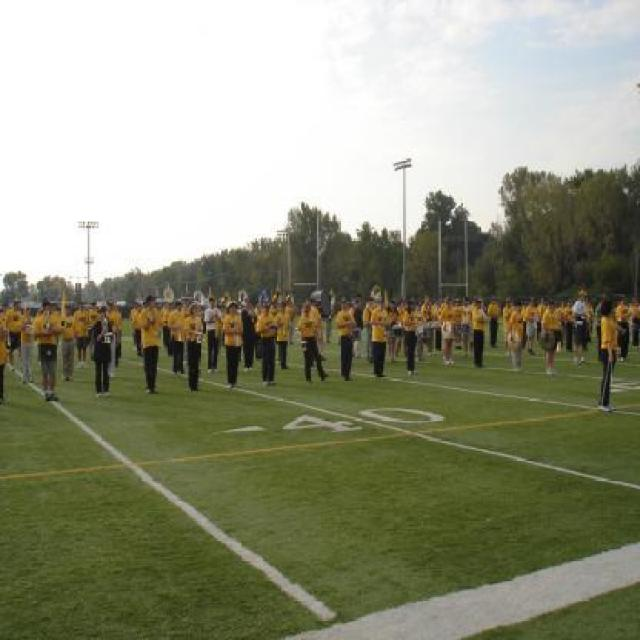Person: (384, 295, 488, 377), (500, 289, 594, 373), (597, 295, 626, 411), (595, 293, 639, 362), (33, 300, 61, 398), (296, 304, 330, 382), (138, 294, 164, 395), (91, 304, 112, 398), (256, 302, 278, 387), (369, 294, 391, 378), (335, 298, 356, 378), (184, 302, 202, 390), (224, 302, 242, 388), (61, 303, 79, 382), (16, 302, 33, 384), (204, 296, 222, 372), (542, 302, 560, 376), (168, 301, 186, 373), (73, 301, 92, 368), (105, 304, 122, 378), (5, 300, 22, 369), (506, 307, 525, 365), (241, 298, 256, 370), (310, 298, 327, 360), (458, 293, 476, 349), (302, 307, 318, 365), (276, 302, 290, 367), (474, 300, 488, 365), (403, 303, 415, 375), (0, 306, 8, 403), (442, 299, 453, 367), (363, 296, 374, 362), (88, 301, 101, 354), (488, 296, 501, 349), (352, 295, 363, 357), (565, 299, 577, 355), (366, 298, 376, 353), (132, 306, 143, 352), (164, 302, 173, 356), (618, 301, 627, 353), (217, 303, 226, 354), (504, 298, 514, 340), (387, 302, 395, 353), (396, 296, 404, 347), (356, 296, 364, 346), (87, 302, 104, 324), (286, 301, 294, 344), (594, 296, 603, 330), (528, 304, 534, 353), (417, 302, 423, 348), (579, 294, 583, 360), (424, 297, 434, 320), (286, 298, 294, 322), (634, 300, 638, 348), (328, 296, 332, 339), (268, 303, 280, 317), (164, 300, 171, 323), (53, 302, 61, 321), (537, 300, 541, 338), (0, 304, 8, 322), (180, 298, 188, 316), (313, 300, 318, 326), (130, 301, 138, 317), (589, 304, 593, 334), (160, 302, 166, 318), (401, 300, 402, 352), (132, 303, 136, 315), (562, 305, 563, 330)
